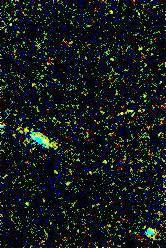star: (13, 116, 43, 146)
